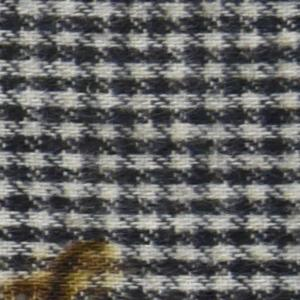Damage: (1, 251, 113, 300)
Oil Stain: (1, 233, 124, 300)
